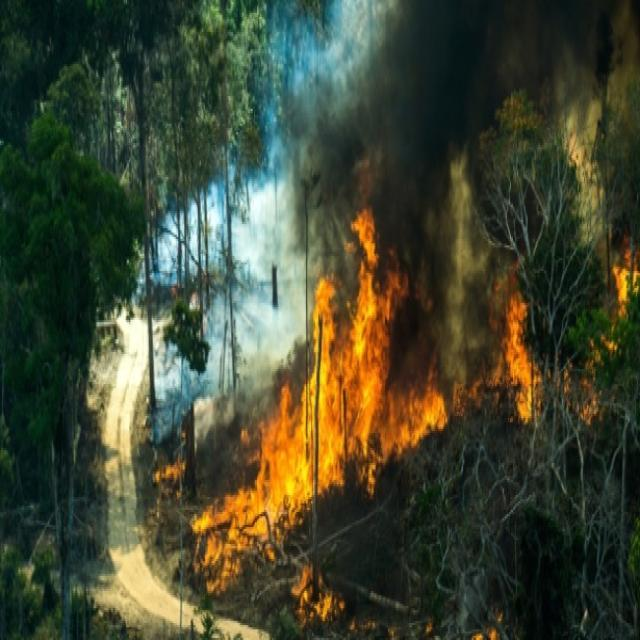Fire: (288, 226, 451, 464), (475, 209, 550, 452), (570, 192, 636, 444), (236, 402, 336, 535), (196, 457, 252, 603), (146, 388, 193, 512), (290, 540, 348, 636)
Smoke: (324, 0, 606, 290), (134, 114, 313, 370)
